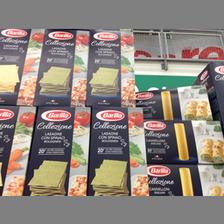Nudeln: (22, 104, 90, 196), (85, 105, 148, 195), (34, 29, 90, 105), (87, 28, 135, 104), (142, 119, 222, 164), (0, 28, 44, 104), (136, 84, 212, 119)
